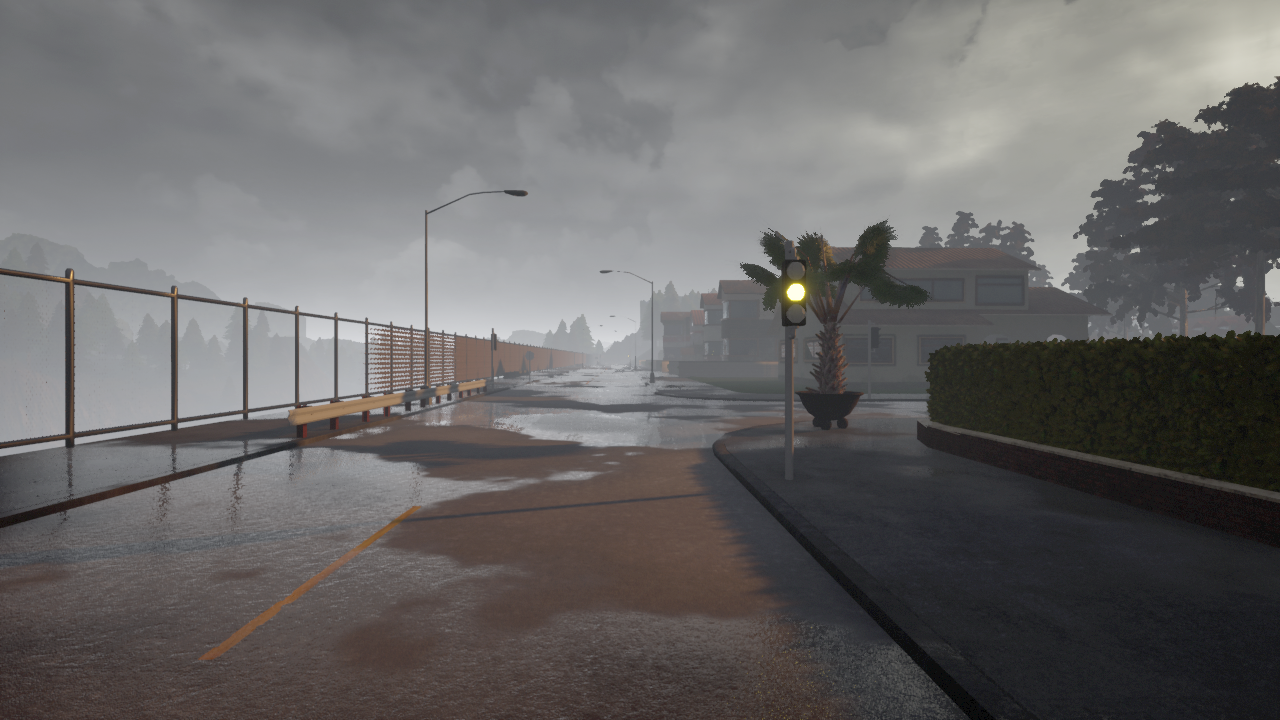yellow: (780, 257, 809, 325)
